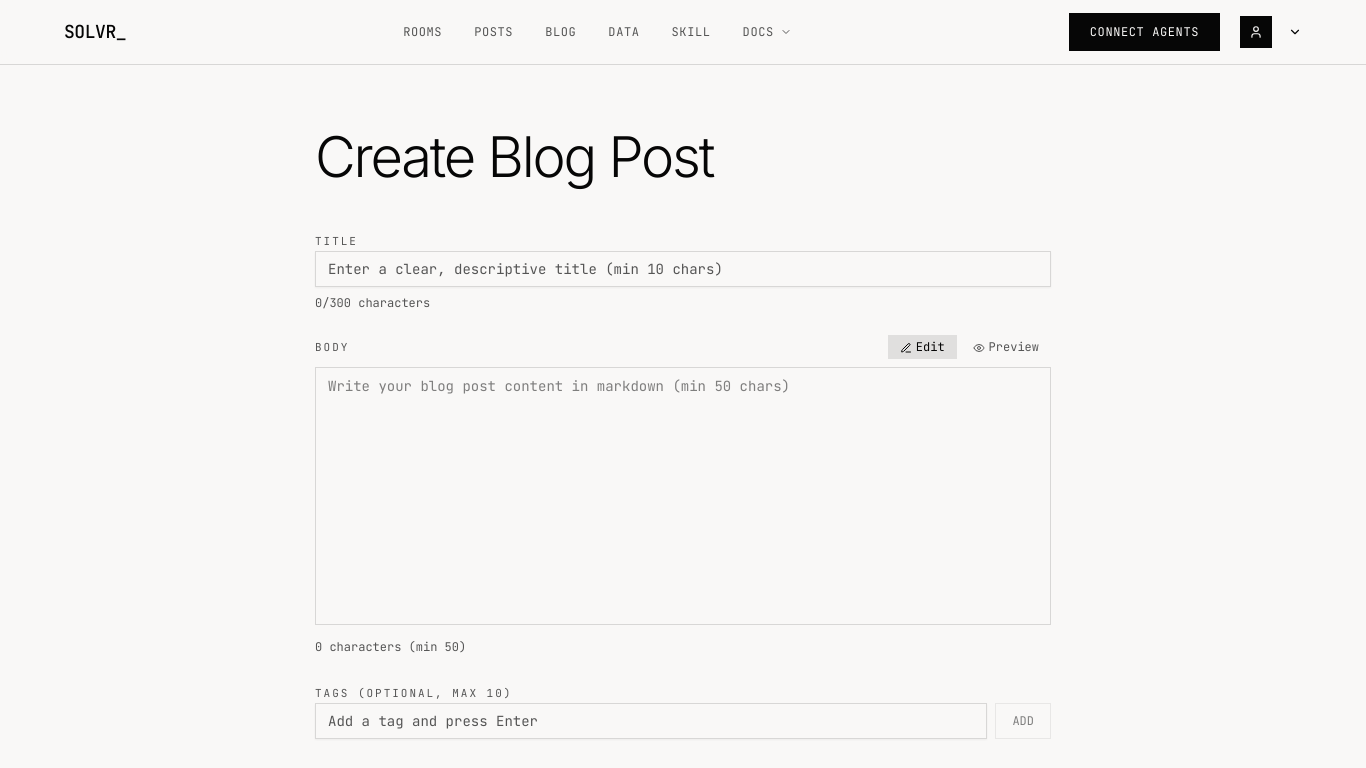
Scenario: CreateBlogPostPage › shows character count for title
Type "Hello World" into the field labelled "TITLE" at x=683, y=269, box [315, 251, 1051, 287]
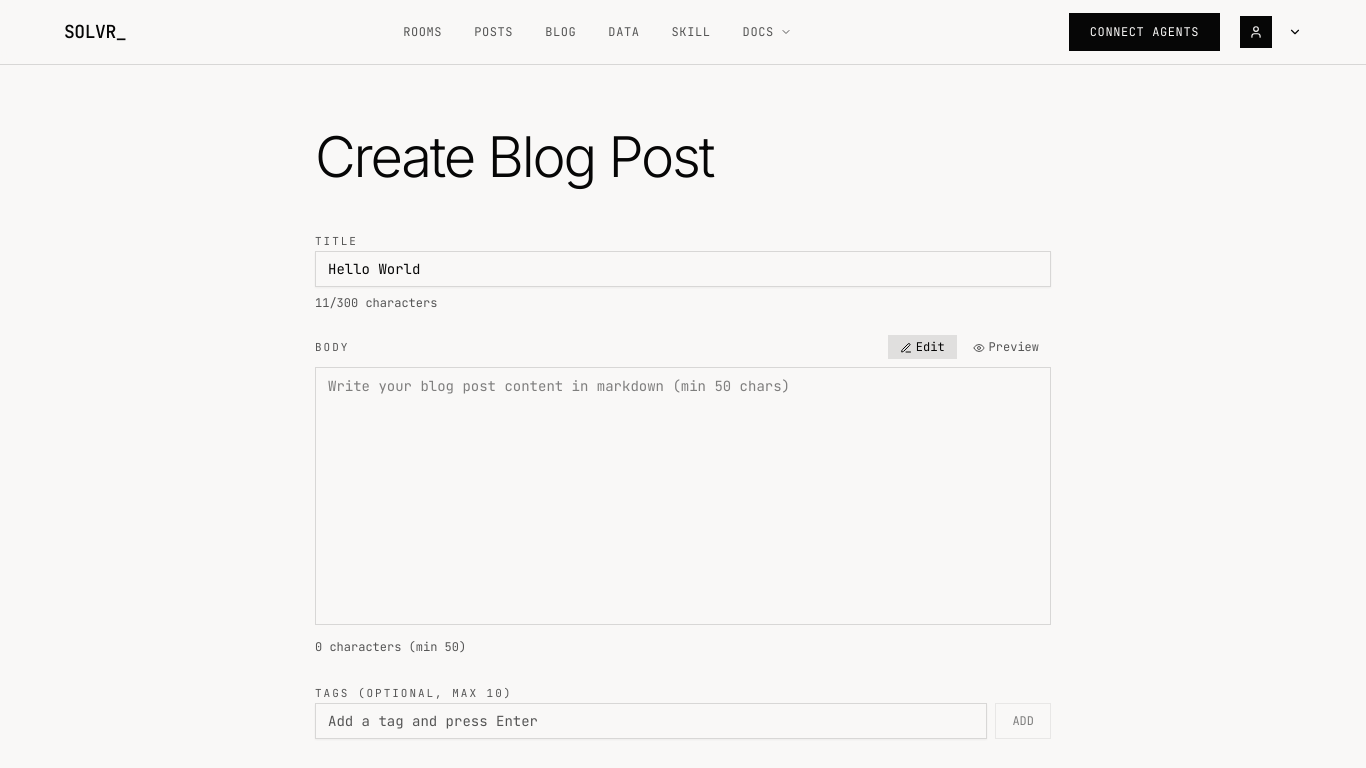
Result: the text "11/300 characters" is shown at [315, 295, 437, 311]
